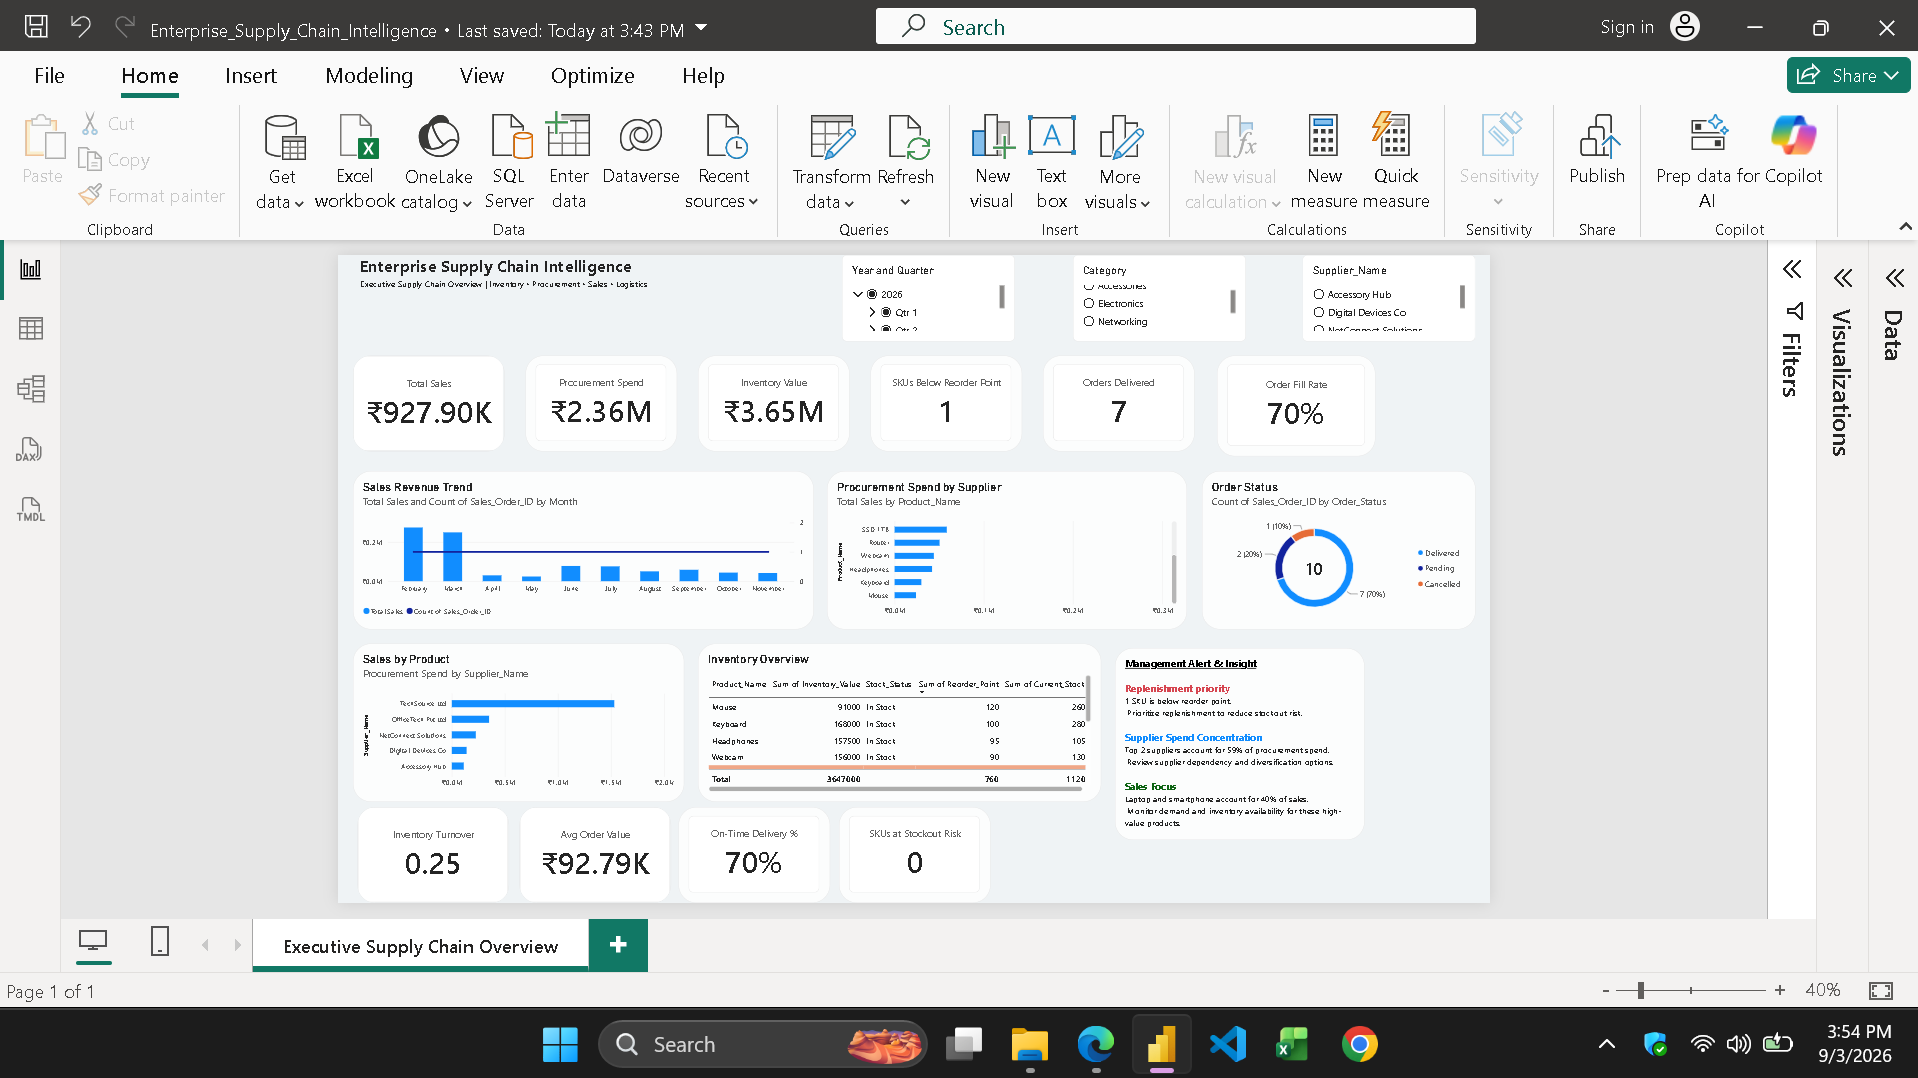

The dashboard page shown, as its layout file describes it:
{"tool":"powerbi","page":{"name":"Executive Supply Chain Overview","canvas":[1920,1080],"ordinal":0},"visuals":[{"type":"cardVisual","fields":{"Data":["Measures (2).Total Sales"]},"box":[24,168,252.5,160],"z":0},{"type":"textbox","box":[0,0,695,58.8],"z":1000},{"type":"cardVisual","fields":{"Data":["Measures (2).Procurement Spend"]},"box":[312,168,252.5,160],"z":2000},{"type":"cardVisual","fields":{"Data":["Measures (2).Inventory Value"]},"box":[600,168,252.5,160],"z":3000},{"type":"cardVisual","fields":{"Data":["Measures (2).Reorder SKUs"]},"box":[888,168,252.5,160],"z":4000},{"type":"cardVisual","fields":{"Data":["Measures (2).Orders Delivered"]},"box":[1176,168,252.5,160],"z":5000},{"type":"cardVisual","fields":{"Data":["Measures (2).Fill Rate"]},"box":[1464,168,264,168],"z":6000},{"type":"lineClusteredColumnComboChart","title":"Sales Revenue Trend","fields":{"Category":["Sales_Orders.Order_Date.Variation.Date Hierarchy.Year","Sales_Orders.Order_Date.Variation.Date Hierarchy.Quarter","Sales_Orders.Order_Date.Variation.Date Hierarchy.Month","Sales_Orders.Order_Date.Variation.Date Hierarchy.Day"],"Y":["Measures (2).Total Sales"],"Y2":["CountNonNull(Sales_Orders.Sales_Order_ID)"]},"box":[24,360,768,264],"z":7000},{"type":"clusteredBarChart","title":"Procurement Spend by Supplier","fields":{"Category":["Products.Product_Name"],"Y":["Measures (2).Total Sales"]},"box":[816,360,600,264],"z":8000},{"type":"donutChart","title":"Order Status","fields":{"Category":["Sales_Orders.Order_Status"],"Y":["CountNonNull(Sales_Orders.Sales_Order_ID)"]},"box":[1440,360,456,264],"z":9000},{"type":"clusteredBarChart","title":"Sales by Product","fields":{"Category":["Suppliers.Supplier_Name"],"Y":["Measures (2).Procurement Spend"]},"box":[24,648,552,264],"z":10000},{"type":"tableEx","title":"Inventory Overview","fields":{"Values":["Products.Product_Name","Sum(Inventory.Inventory_Value)","Inventory.Stock_Status","Sum(Products.Reorder_Point)","Sum(Inventory.Current_Stock)"]},"box":[600,648,672,264],"z":11000},{"type":"cardVisual","fields":{"Data":["Measures (2).Inventory Turnover"]},"box":[32,920,252.5,160],"z":12000},{"type":"cardVisual","fields":{"Data":["Measures (2).Avg Order Value"]},"box":[302,920,252.5,160],"z":13000},{"type":"cardVisual","fields":{"Data":["Measures (2).On-Time Delivery"]},"box":[568,920,252.5,160],"z":14000},{"type":"listSlicer","fields":{"Values":["Sales_Orders.Order_Date.Variation.Date Hierarchy.Year","Sales_Orders.Order_Date.Variation.Date Hierarchy.Quarter","Sales_Orders.Order_Date.Variation.Date Hierarchy.Month","Sales_Orders.Order_Date.Variation.Date Hierarchy.Day"]},"box":[840,0,288,144],"z":14500},{"type":"listSlicer","fields":{"Values":["Products.Category"]},"box":[1224,0,288,144],"z":14750},{"type":"listSlicer","fields":{"Values":["Suppliers.Supplier_Name"]},"box":[1608,0,288,144],"z":14875},{"type":"cardVisual","fields":{"Data":["Measures (2).Stockout SKUs"]},"box":[834,920,252.5,160],"z":15000},{"type":"textbox","box":[1087,920,185,160],"z":15001},{"type":"textbox","box":[1296,656,416,320],"z":15002}]}

Visuals, with their boxes on the page's 1920x1080 design canvas (x1, y1, x2, y2). These are canvas units, not pixel positions in the 1918x1078 screenshot, which may show the page scaled, cropped or inside an application window:
cardVisual - Measures (2).Total Sales: [left=24, top=168, right=276, bottom=328]
textbox: [left=0, top=0, right=695, bottom=59]
cardVisual - Measures (2).Procurement Spend: [left=312, top=168, right=564, bottom=328]
cardVisual - Measures (2).Inventory Value: [left=600, top=168, right=852, bottom=328]
cardVisual - Measures (2).Reorder SKUs: [left=888, top=168, right=1140, bottom=328]
cardVisual - Measures (2).Orders Delivered: [left=1176, top=168, right=1428, bottom=328]
cardVisual - Measures (2).Fill Rate: [left=1464, top=168, right=1728, bottom=336]
"Sales Revenue Trend" lineClusteredColumnComboChart: [left=24, top=360, right=792, bottom=624]
"Procurement Spend by Supplier" clusteredBarChart: [left=816, top=360, right=1416, bottom=624]
"Order Status" donutChart: [left=1440, top=360, right=1896, bottom=624]
"Sales by Product" clusteredBarChart: [left=24, top=648, right=576, bottom=912]
"Inventory Overview" tableEx: [left=600, top=648, right=1272, bottom=912]
cardVisual - Measures (2).Inventory Turnover: [left=32, top=920, right=284, bottom=1080]
cardVisual - Measures (2).Avg Order Value: [left=302, top=920, right=554, bottom=1080]
cardVisual - Measures (2).On-Time Delivery: [left=568, top=920, right=820, bottom=1080]
listSlicer - Sales_Orders.Order_Date.Variation.Date Hierarchy.Year x Sales_Orders.Order_Date.Variation.Date Hierarchy.Quarter: [left=840, top=0, right=1128, bottom=144]
listSlicer - Products.Category: [left=1224, top=0, right=1512, bottom=144]
listSlicer - Suppliers.Supplier_Name: [left=1608, top=0, right=1896, bottom=144]
cardVisual - Measures (2).Stockout SKUs: [left=834, top=920, right=1086, bottom=1080]
textbox: [left=1087, top=920, right=1272, bottom=1080]
textbox: [left=1296, top=656, right=1712, bottom=976]
